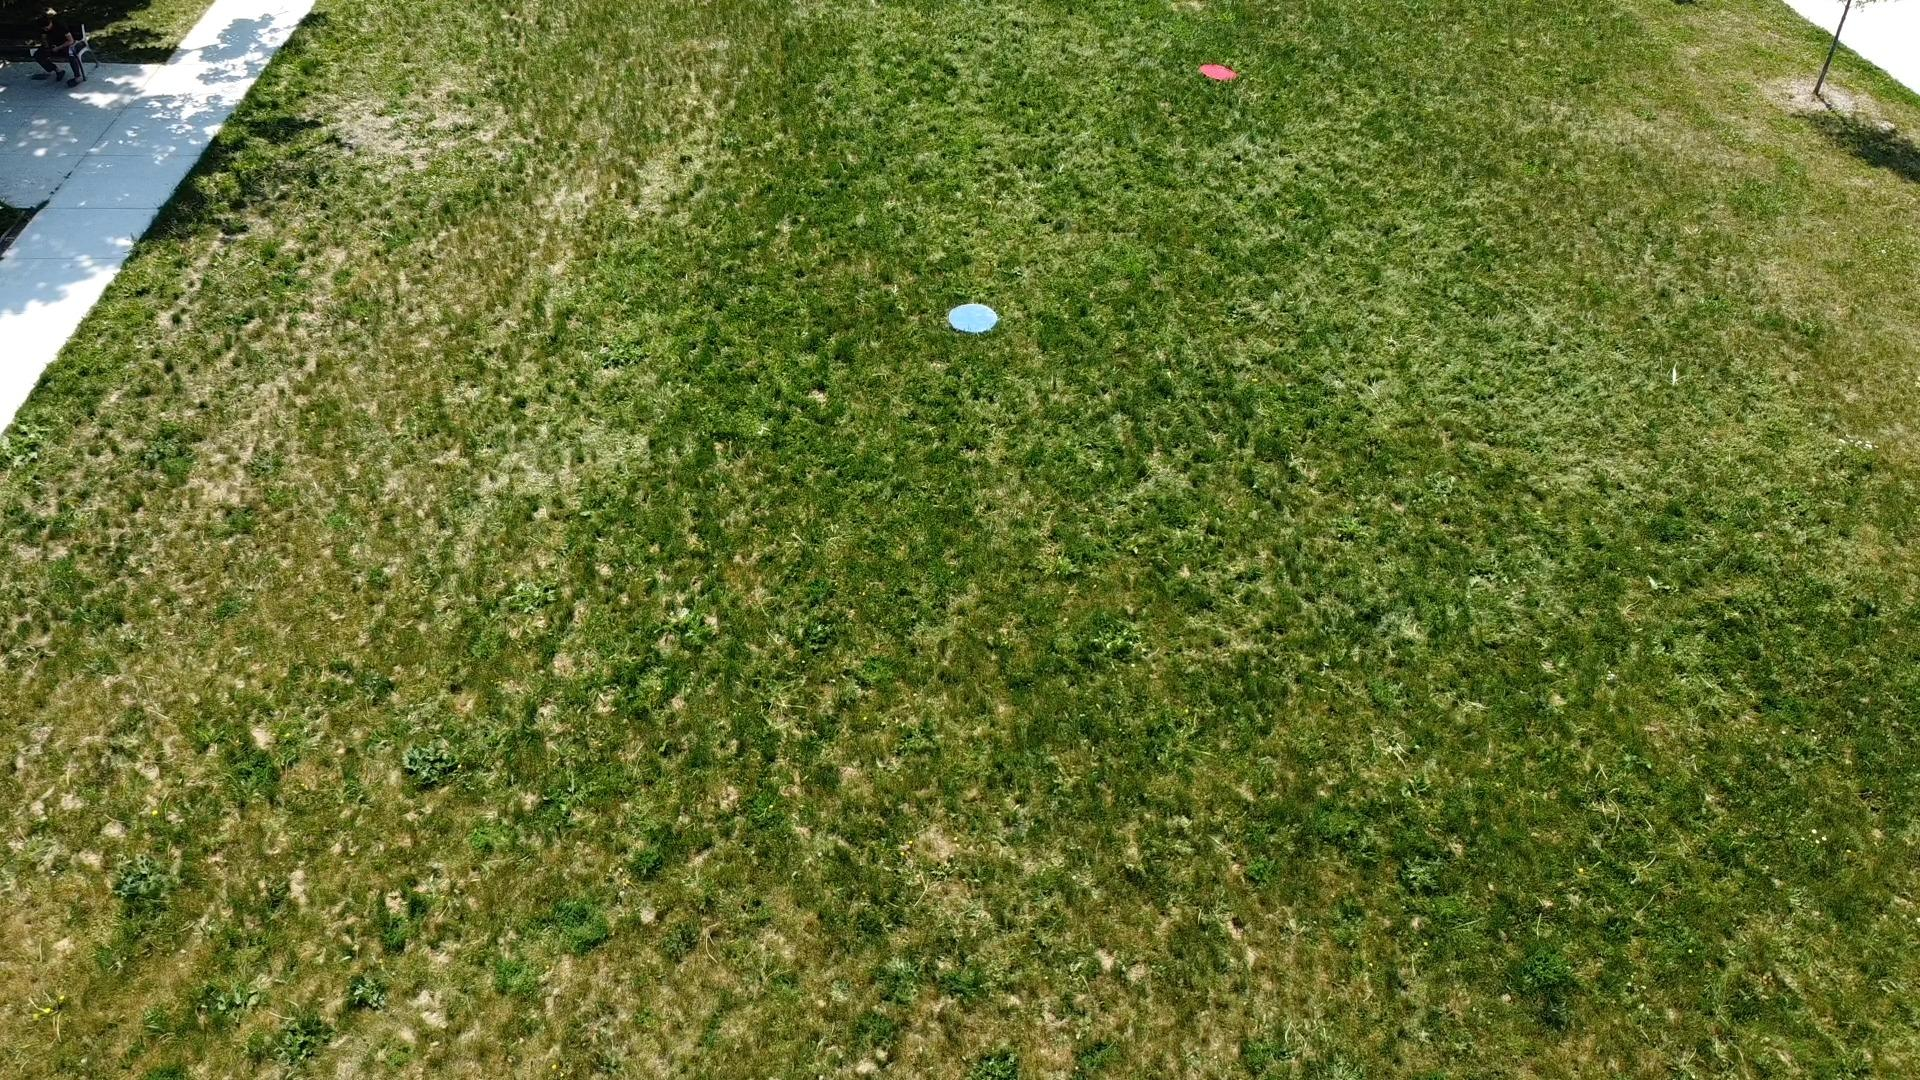Blue: (945, 297, 1002, 338)
Red: (1197, 59, 1245, 84)
